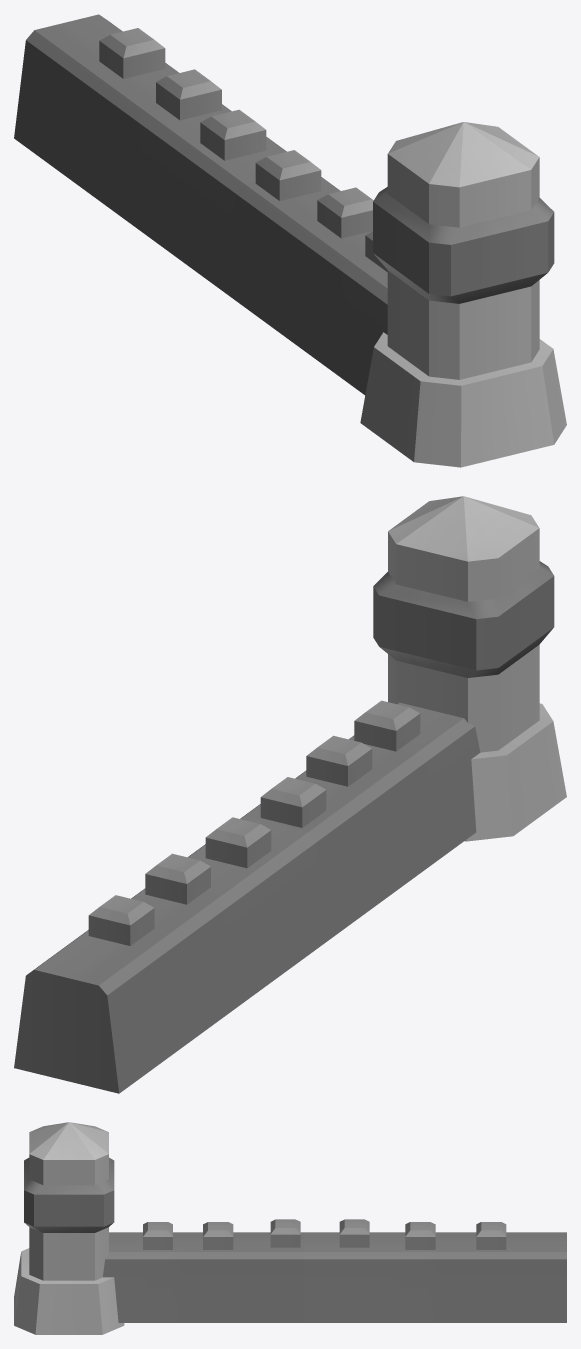
File: Fence 4.fbx
3 views of the same model, one above another, from view 1: azimuth 30°, elevation 25°; view 2: azimuth 150°, elevation 25°; view 3: azimuth 270°, elevation 25° (orthographic). The views are drawn at different scales.
Parts seen in each view (by area): view 1: WAll4; view 2: WAll4; view 3: WAll4.
Boxes of the visible parts, x1,y1,x2,y2 form: WAll4: (14, 14, 566, 467); WAll4: (14, 496, 566, 1093); WAll4: (14, 1122, 566, 1334).
Bounding box in the file's own units: 0.2725 × 0.5143 × 1.36.
1 material, 1 textured.
